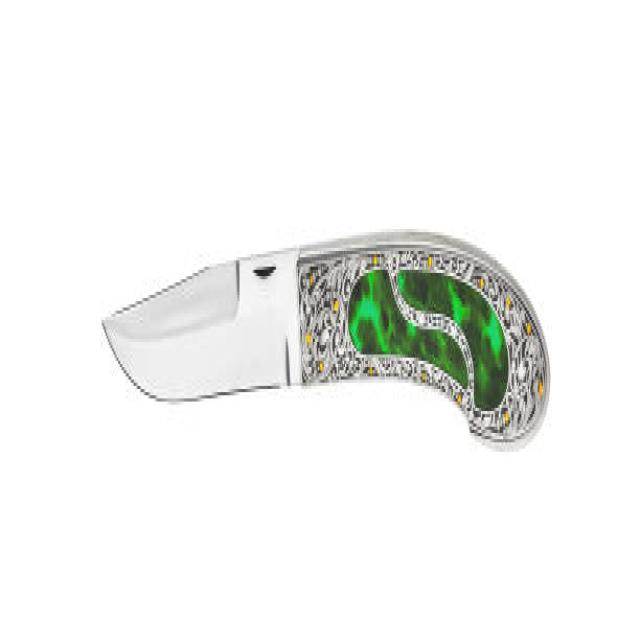knife: (101, 229, 553, 455)
